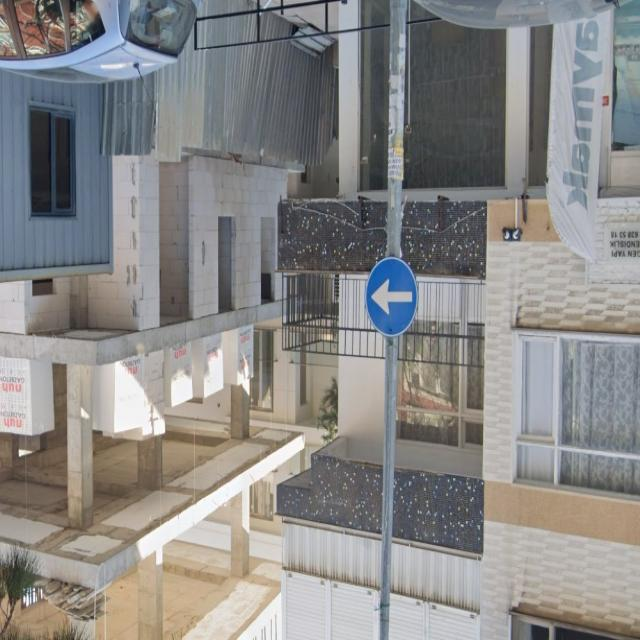Turn Left: (367, 251, 419, 343)
